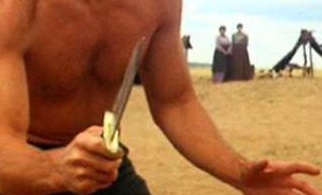knife: (81, 29, 151, 190)
